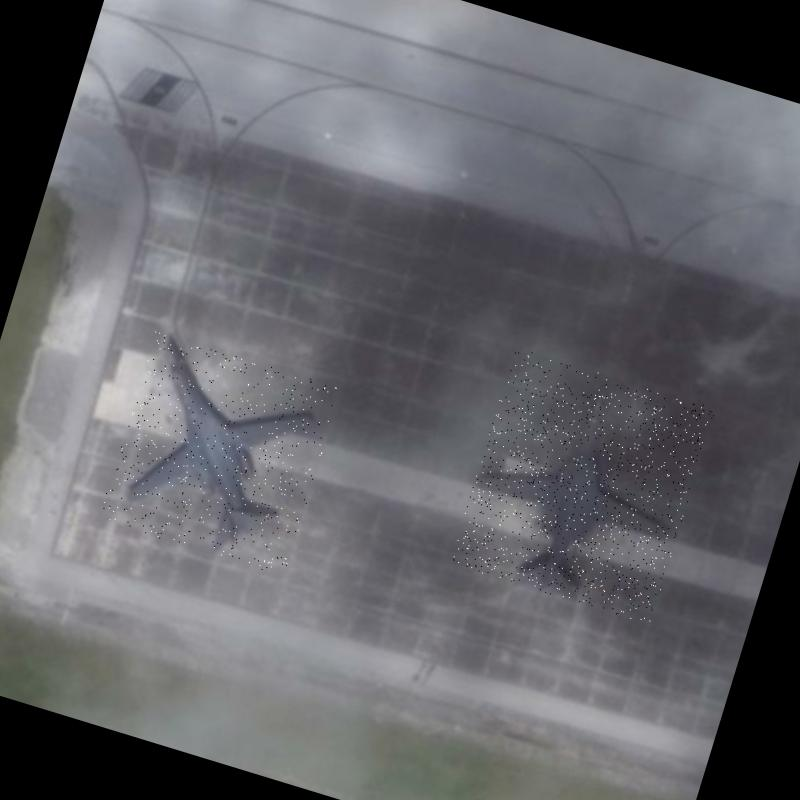A10: (450, 347, 716, 625), (98, 332, 342, 576)
